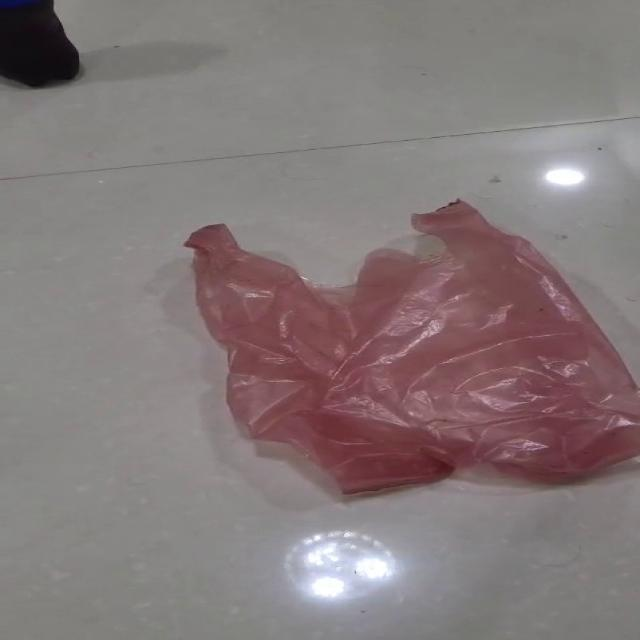plastic: (182, 197, 637, 496)
